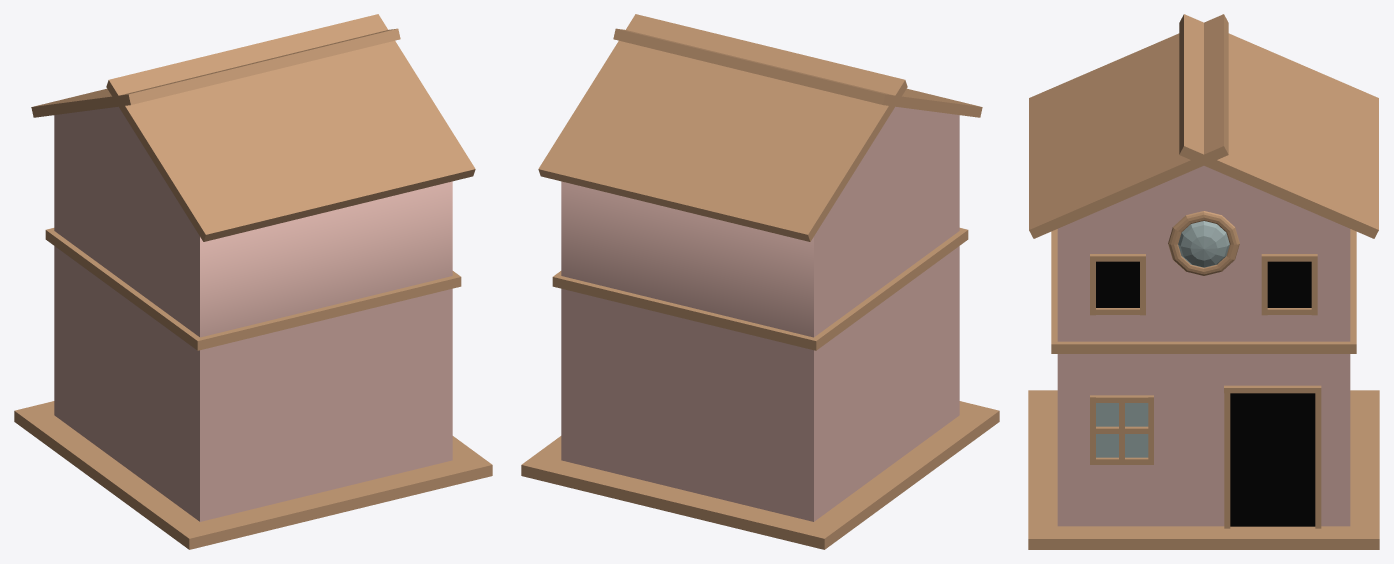
File: house01.fbx
3 renders of one model, left to right at view 1: azimuth 30°, elevation 25°; view 2: azimuth 150°, elevation 25°; view 3: azimuth 270°, elevation 25°, orthographic.
Visible parts, largest first — view 1: pCube3, wuding, pCube13, pCube1, pCube2; view 2: pCube3, wuding, pCube13, pCube1, pCube2; view 3: wuding, pCube3, pCube13, pCube1, pPlane3, pCube2, pPlane2 (×2), pPlane1, pSphere1, pTorus1, pCube5, pCube4 (+2 smaller).
Boxes of the visible parts, bbox=[...] form: pCube3: bbox=[54, 246, 452, 521]; wuding: bbox=[31, 14, 475, 241]; pCube13: bbox=[54, 106, 452, 337]; pCube1: bbox=[14, 401, 492, 549]; pCube2: bbox=[45, 228, 461, 350]; pCube3: bbox=[561, 246, 959, 521]; wuding: bbox=[538, 14, 982, 241]; pCube13: bbox=[561, 106, 959, 337]; pCube1: bbox=[521, 401, 999, 549]; pCube2: bbox=[552, 228, 968, 350]; wuding: bbox=[1029, 14, 1378, 238]; pCube3: bbox=[1057, 354, 1350, 526]; pCube13: bbox=[1057, 166, 1350, 341]; pCube1: bbox=[1028, 390, 1379, 549]; pPlane3: bbox=[1230, 393, 1315, 526]; pCube2: bbox=[1051, 229, 1356, 353]; pPlane2 (×2): bbox=[1096, 261, 1311, 307]; pPlane1: bbox=[1096, 403, 1148, 457]; pSphere1: bbox=[1178, 221, 1229, 267]; pTorus1: bbox=[1168, 211, 1239, 275]; pCube5: bbox=[1315, 392, 1321, 528]; pCube4: bbox=[1224, 393, 1230, 528].
Size of the model in its own units: 21.76 by 27.06 by 21.76.
